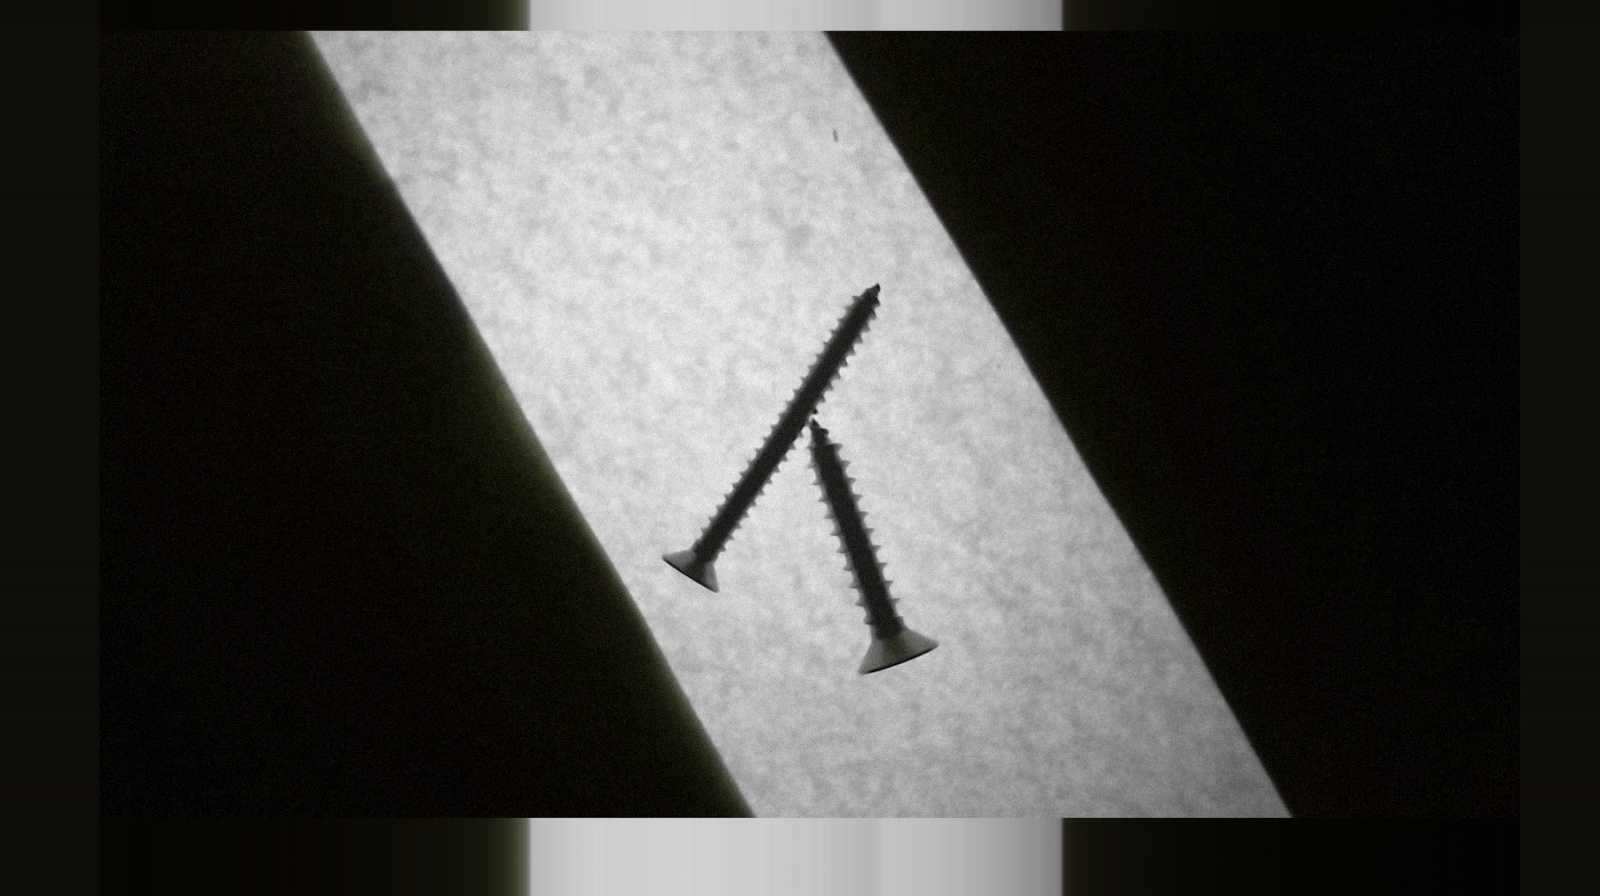S001: (805, 418, 937, 681)
S002: (660, 276, 884, 595)
